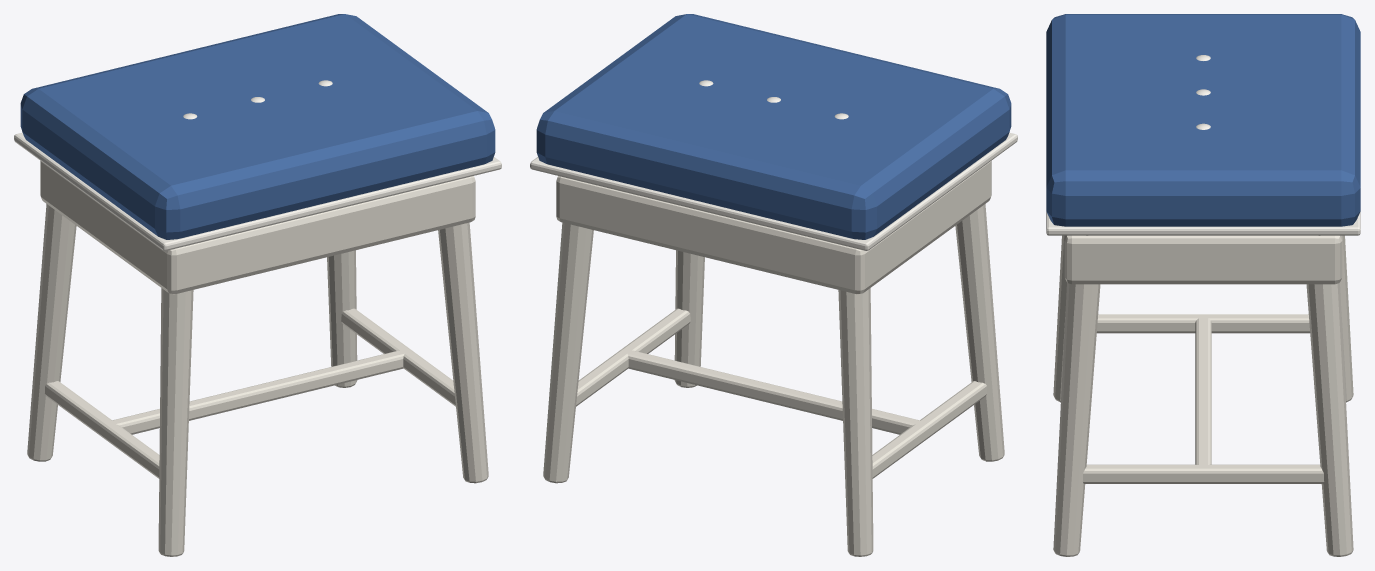
The model's file is hh_cat_dressing_stool.glb.
3 renders of one model, left to right at view 1: azimuth 30°, elevation 25°; view 2: azimuth 150°, elevation 25°; view 3: azimuth 270°, elevation 25°, orthographic. The views are drawn at different scales.
Visible parts, largest first — view 1: cushion, apron, leg, leg.002, leg.001, stretcher.002, piping, leg.003, stretcher, stretcher.001; view 2: cushion, apron, leg.001, leg.003, leg, stretcher.002, piping, leg.002, stretcher, stretcher.001; view 3: cushion, apron, leg.003, leg.002, stretcher.001, stretcher, piping, stretcher.002, leg, leg.001.
Part boxes in pixels (x1,y1,x2,y2): cushion: [20, 14, 495, 239]; apron: [40, 161, 475, 294]; leg: [158, 288, 193, 556]; leg.002: [438, 222, 488, 483]; leg.001: [27, 204, 76, 461]; stretcher.002: [111, 350, 404, 434]; piping: [14, 132, 501, 250]; leg.003: [327, 250, 357, 387]; stretcher: [45, 381, 159, 478]; stretcher.001: [341, 308, 455, 406]; cushion: [536, 14, 1011, 239]; apron: [556, 161, 991, 294]; leg.001: [838, 288, 873, 556]; leg.003: [543, 222, 593, 483]; leg: [955, 204, 1004, 461]; stretcher.002: [627, 350, 920, 434]; piping: [530, 132, 1017, 250]; leg.002: [674, 250, 704, 387]; stretcher: [872, 381, 986, 478]; stretcher.001: [576, 308, 690, 406]; cushion: [1046, 14, 1360, 226]; apron: [1064, 235, 1342, 284]; leg.003: [1306, 235, 1353, 556]; leg.002: [1053, 235, 1100, 556]; stretcher.001: [1082, 464, 1324, 483]; stretcher: [1096, 314, 1310, 333]; piping: [1046, 212, 1360, 235]; stretcher.002: [1195, 318, 1211, 464]; leg: [1053, 235, 1066, 402]; leg.001: [1340, 235, 1353, 402].
Size of the model in its own units: 0.44 by 0.46 by 0.34.
